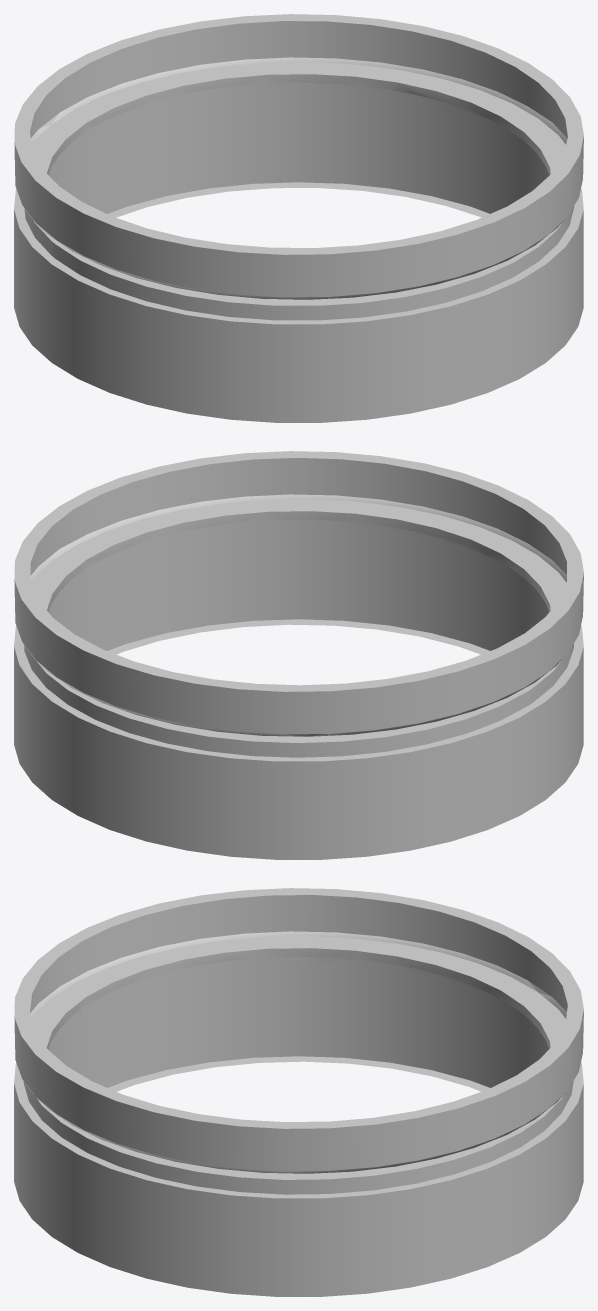
The model's file is forceTorqueSensor.obj.
The picture shows the model from 3 angles, top to bottom: view 1: azimuth 30°, elevation 25°; view 2: azimuth 150°, elevation 25°; view 3: azimuth 270°, elevation 25°; orthographic projection.
Visible parts, largest first — view 1: forceTorqueSensor; view 2: forceTorqueSensor; view 3: forceTorqueSensor.
Part boxes in pixels (x1,y1,x2,y2): forceTorqueSensor: [14, 14, 583, 422]; forceTorqueSensor: [14, 451, 583, 859]; forceTorqueSensor: [14, 888, 583, 1296].
Size of the model in its own units: 0.089 by 0.029 by 0.089.
1 material, 1 textured.
